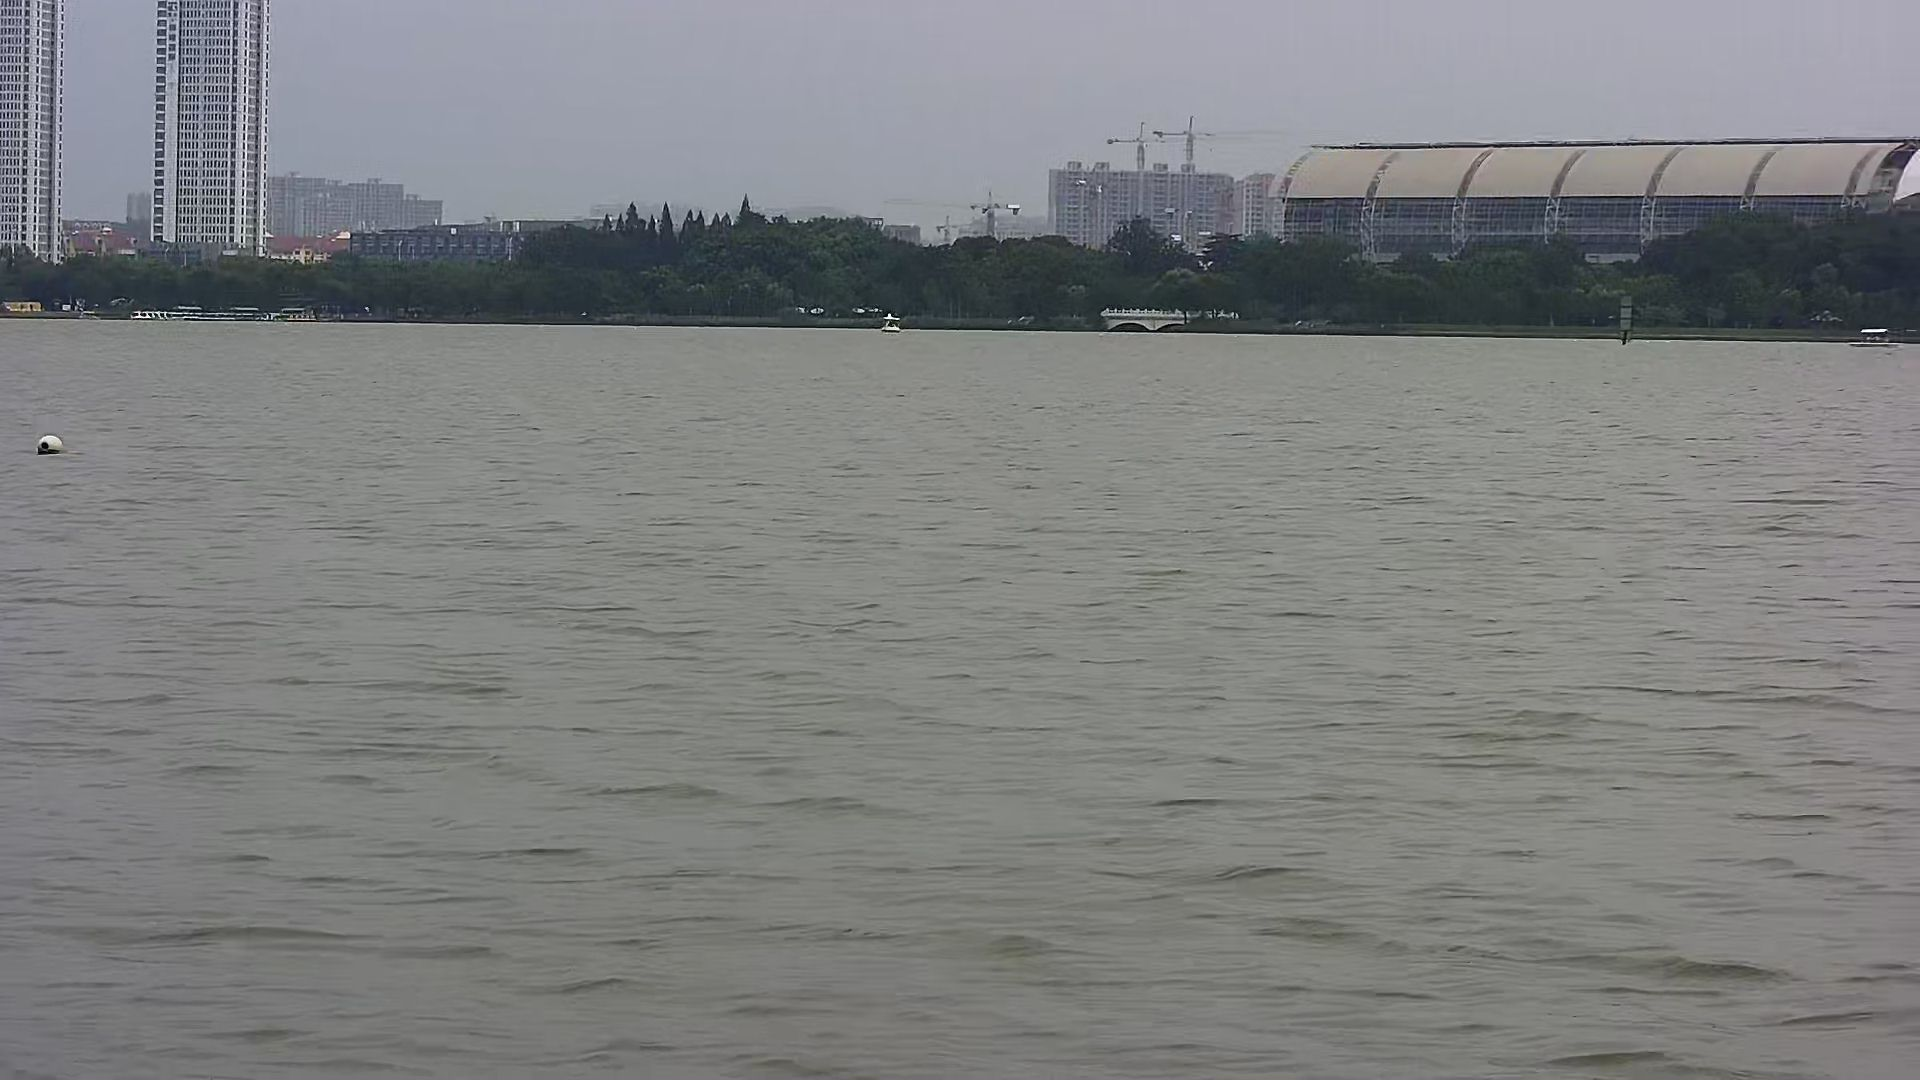rubbish: (29, 427, 65, 454)
